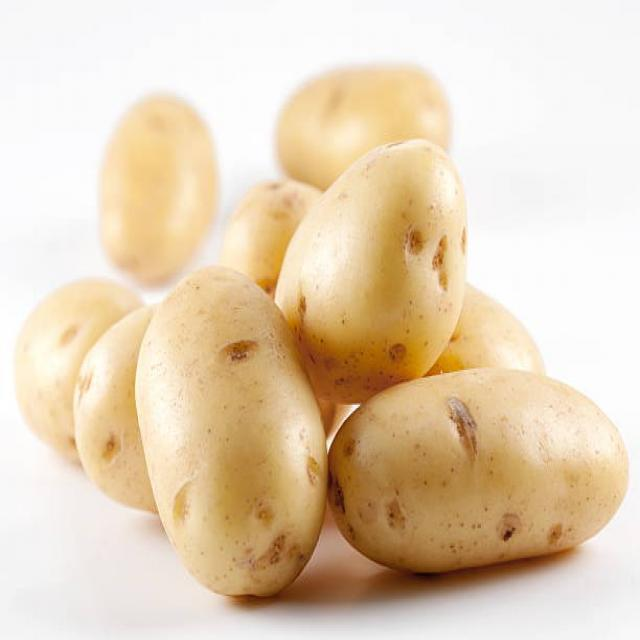potato: (326, 368, 631, 575), (138, 264, 308, 600), (276, 138, 466, 375), (96, 87, 218, 276)
